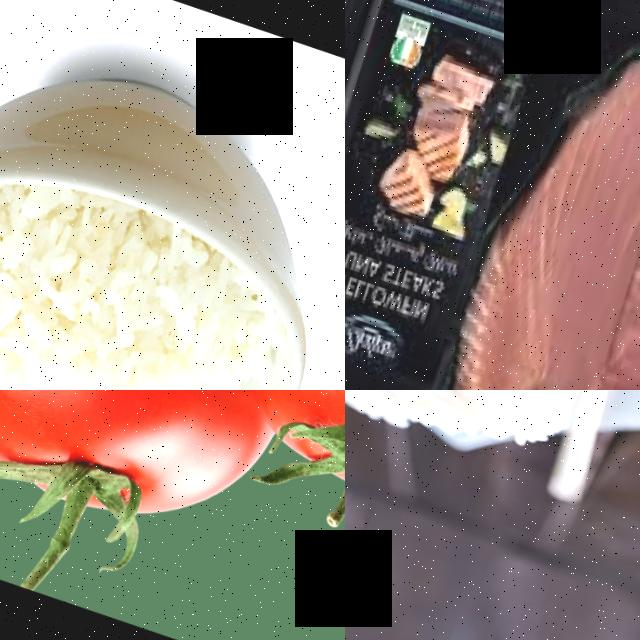tomato: (167, 390, 345, 587), (0, 390, 345, 446)
tuna: (400, 106, 640, 390), (570, 48, 640, 390)
white rice: (0, 131, 314, 390), (345, 390, 622, 494)
